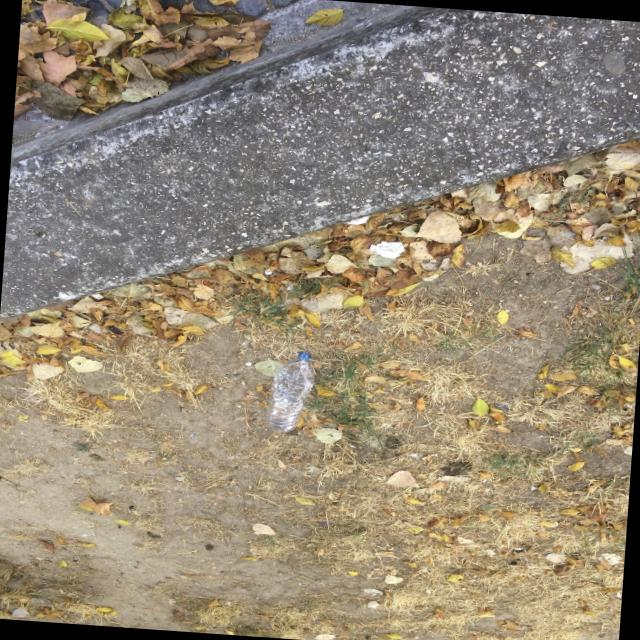less trash: (265, 351, 314, 432)
